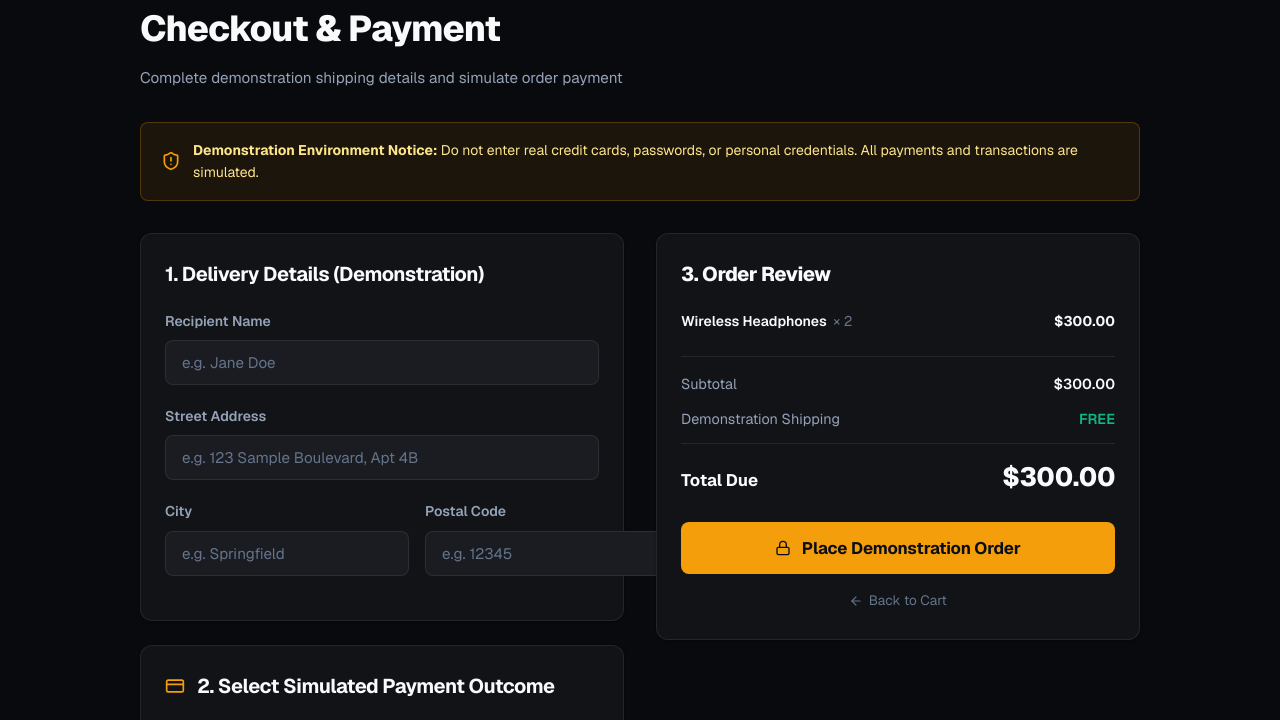
Phase 5: Checkout & Simulated Payment Frontend Tests › T-CHK-UI-03: Selecting "Simulate Payment Success" submits order and redirects to confirmation
Expected: the text "Wireless Headphones" is shown, [681,312,827,330]
Type "Jane Doe" into the field with placeholder "e.g. Jane Doe" at (382, 363), box [165,340,599,385]
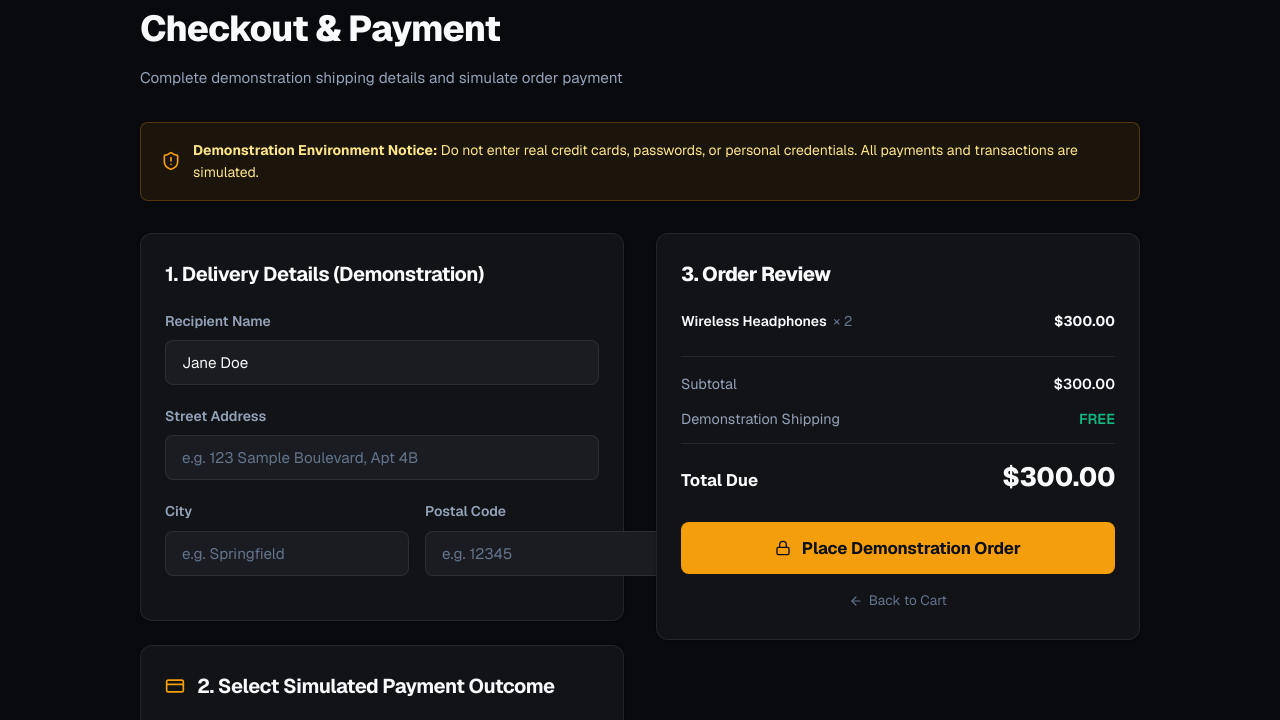
Type "123 Test St" into the field with placeholder "e.g. 123 Sample Boulevard, Apt 4B" at (382, 458), box [165,436,599,480]
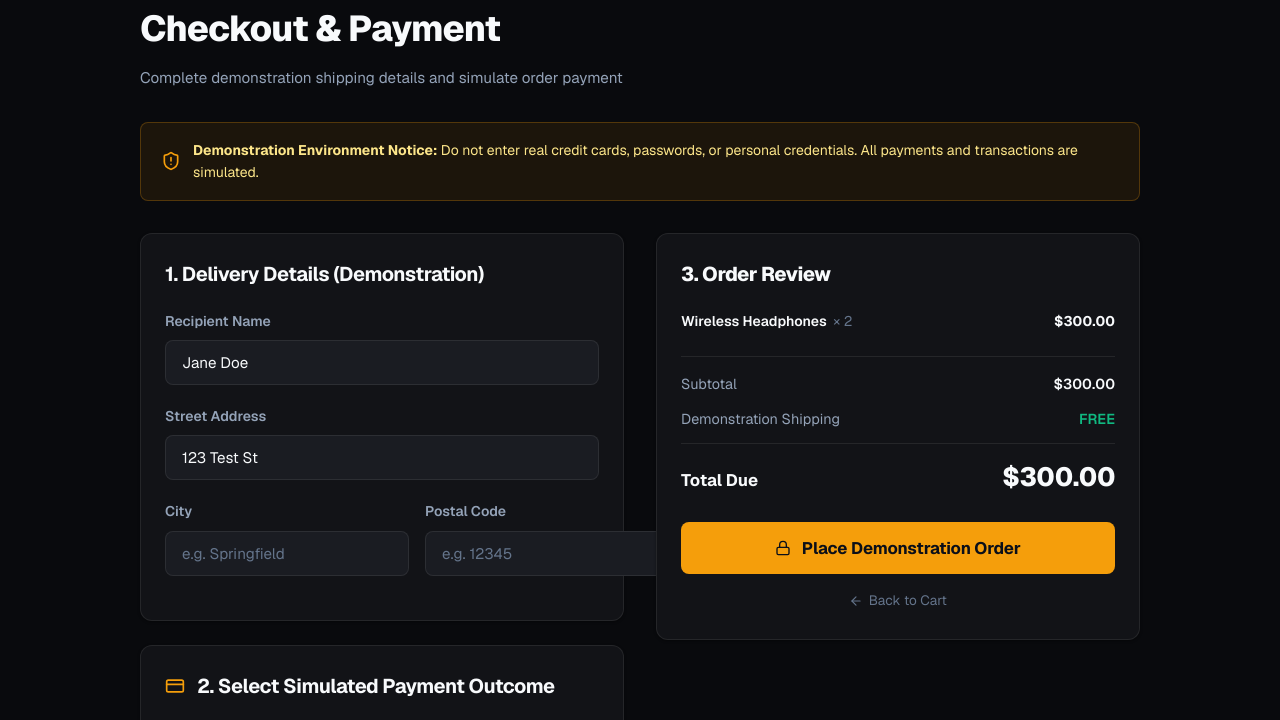
Type "Springfield" into the field with placeholder "e.g. Springfield" at (287, 553), box [165,531,409,576]
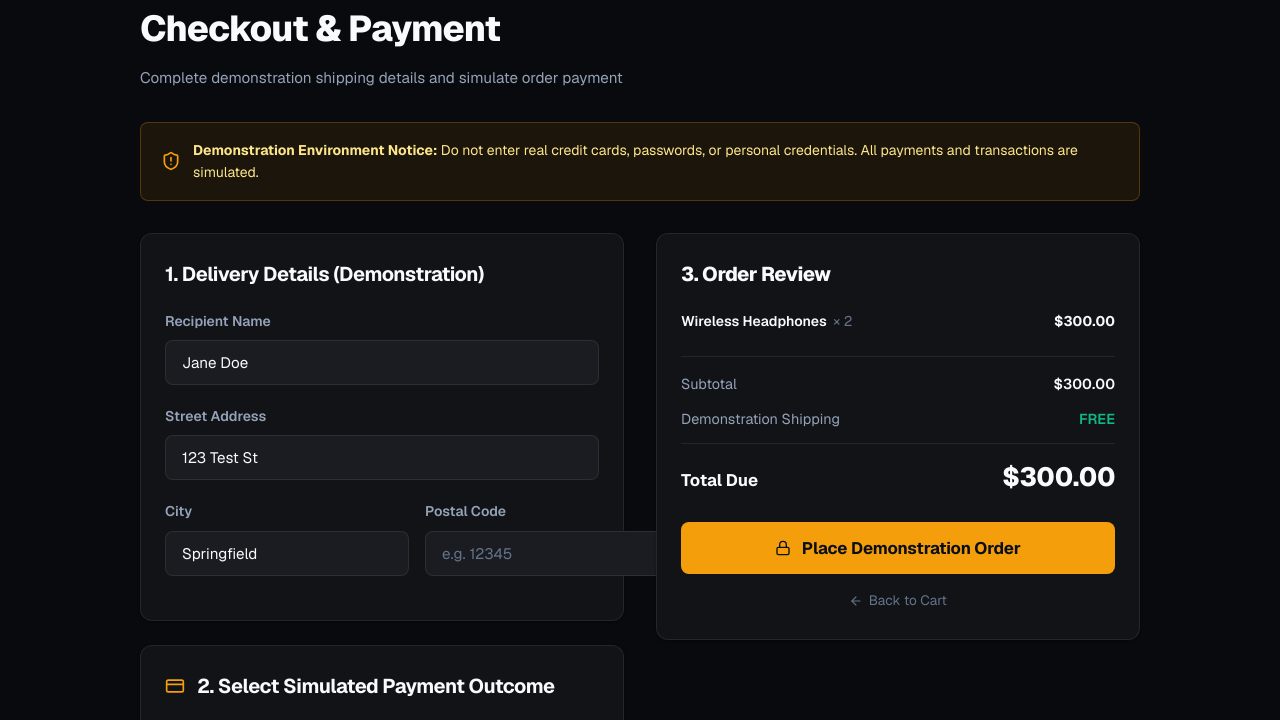
Type "12345" into the field with placeholder "e.g. 12345" at (547, 553), box [425,531,669,576]
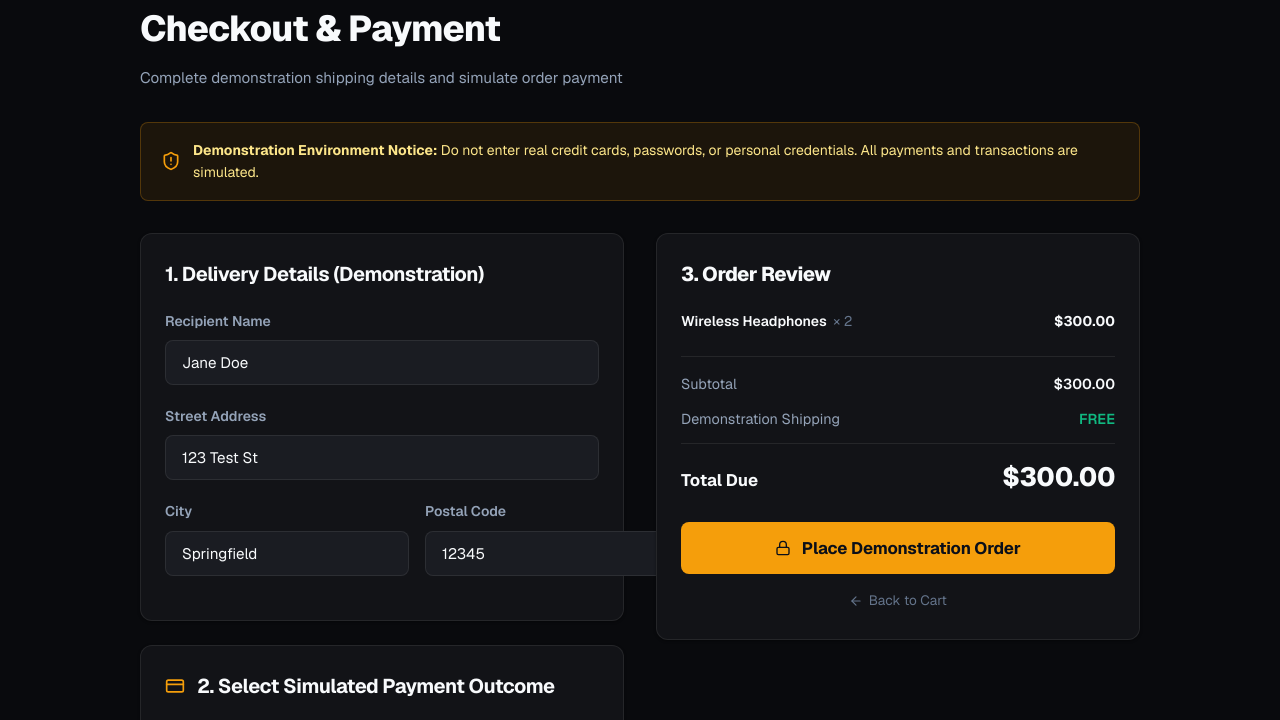
Click the button "Place Demonstration Order" at (898, 548), box [681,522,1115,574]
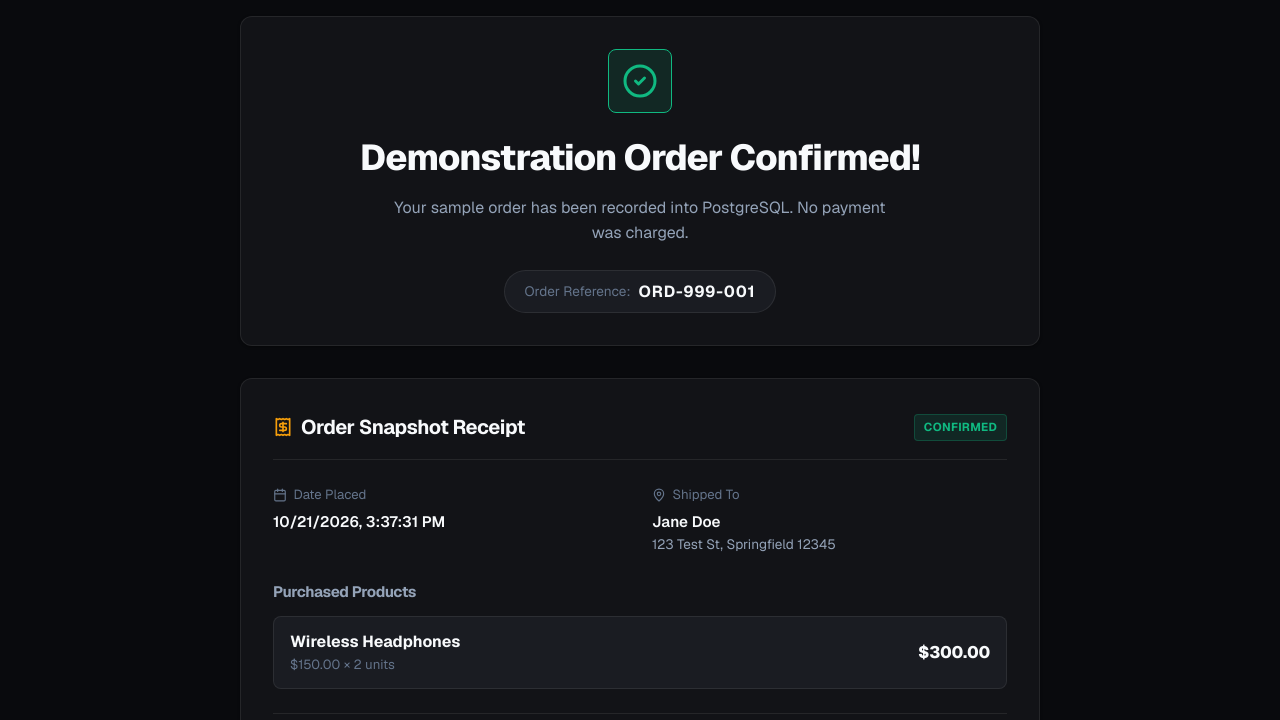
Expected: the heading "Demonstration Order Confirmed!" is shown, [360,134,920,181]
Expected: the text "ORD-999-001" is shown, [638,279,755,304]
